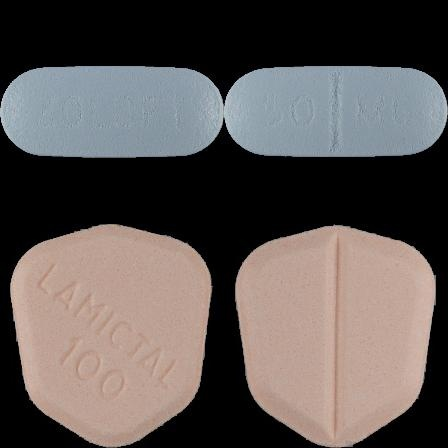55289-409: (0, 0, 224, 224)
